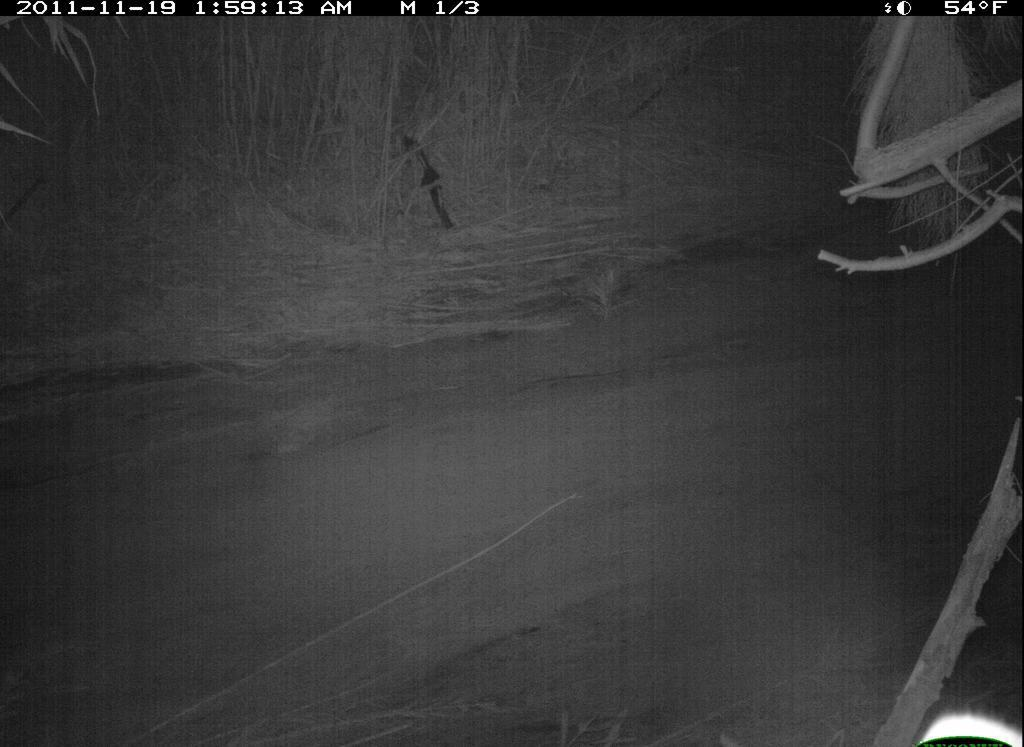raccoon: (918, 692, 1019, 743)
